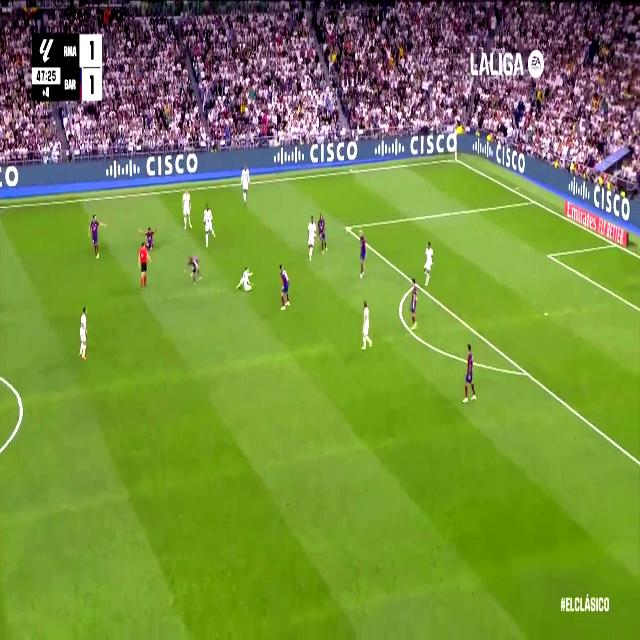bigarea_top_inner: (344, 220, 350, 234)
bigarea_top_outter: (529, 192, 537, 208)
bottom_arc_area_intersection: (521, 362, 531, 383)
corner: (452, 154, 459, 164)
smallarea_top_inner: (546, 248, 552, 262)
top_arc_area_intersection: (412, 278, 418, 290)
